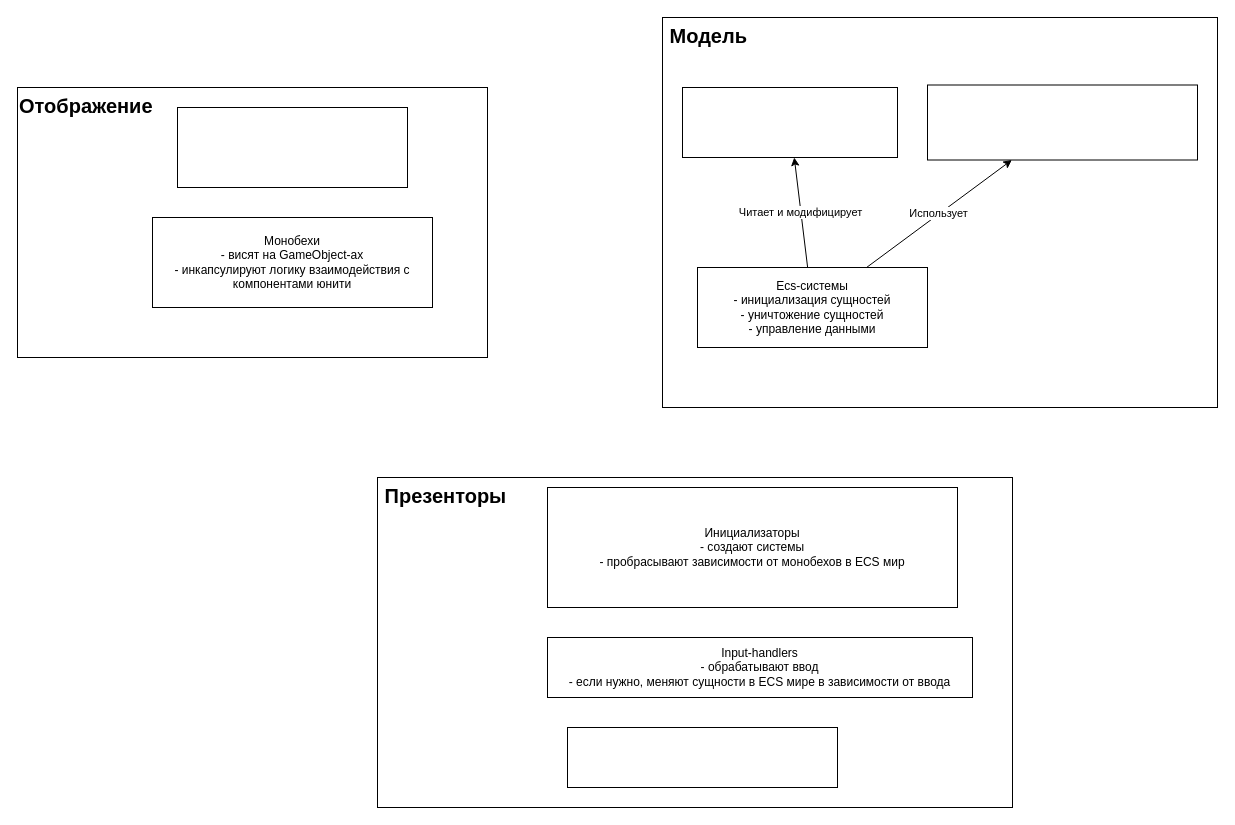
The diagram is 1235 pixels wide and 825 high, and some of its shapes have lost their labels. Each missing label, with the centre of its shape:
"UI компоненты - проксируют изменения отображения - являются монобехами" goes at point (292, 147).
"UI контроллеры - верхнеуровневое управление UI" goes at point (702, 757).
"Данные - сущности и компоненты - парсеры - структуры" goes at point (790, 122).
"Сервисы - утилиты - сгруппированные статические функции - функциональные объекты" goes at point (1062, 122).
